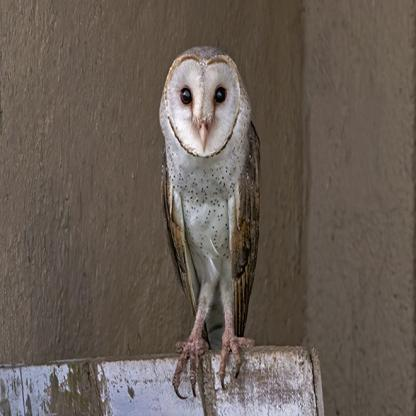Burung: (158, 46, 254, 395)
